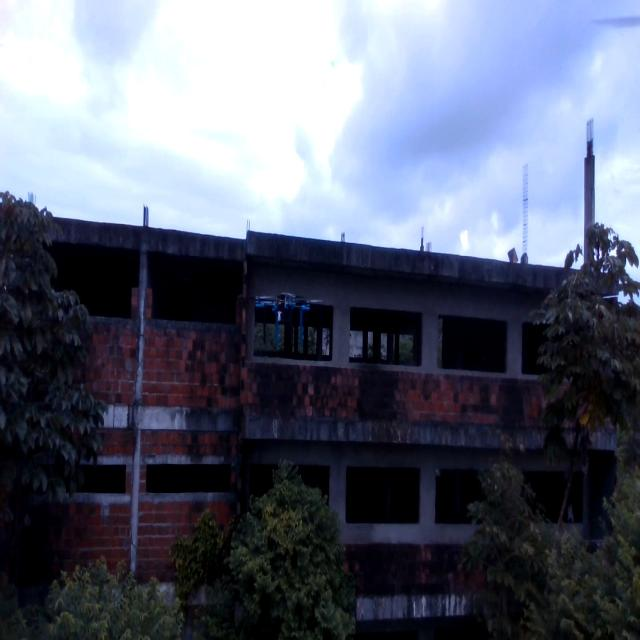-uav-: (248, 273, 328, 357)
